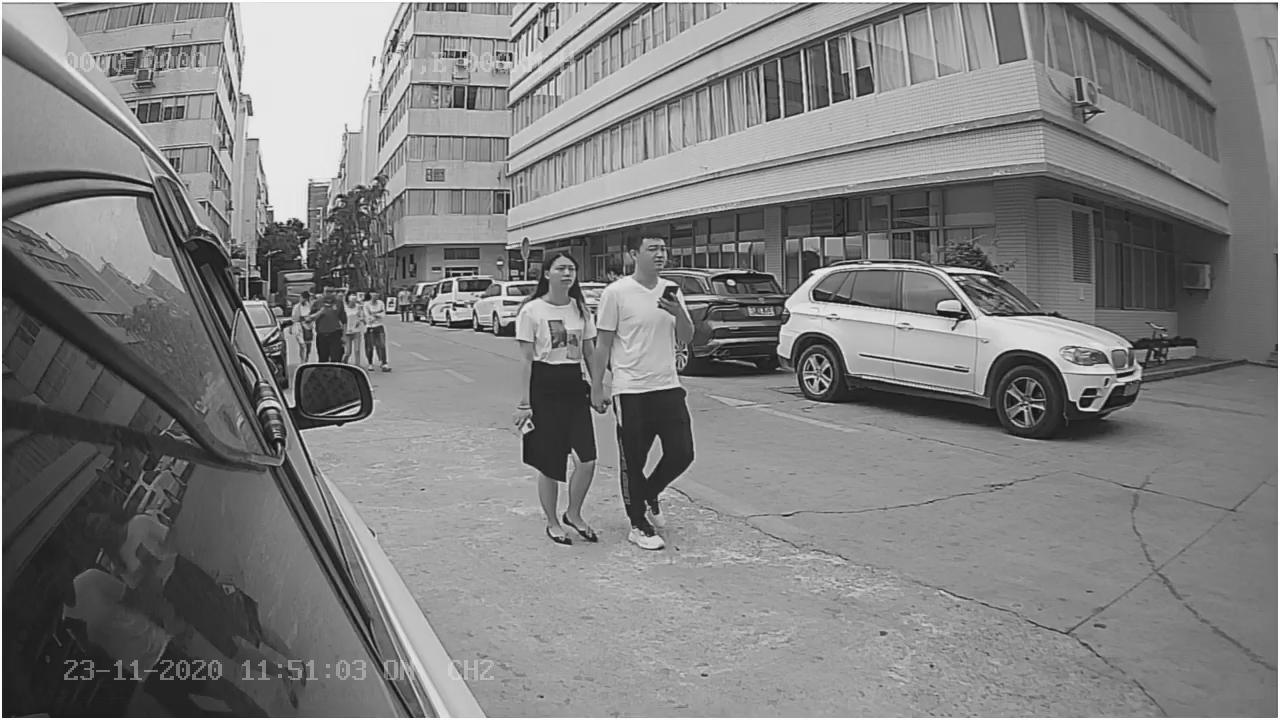person: (505, 254, 620, 549)
